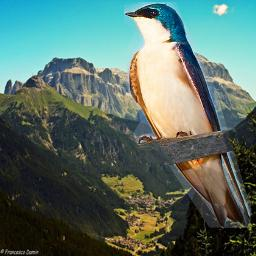Swallow: (124, 2, 251, 228)
